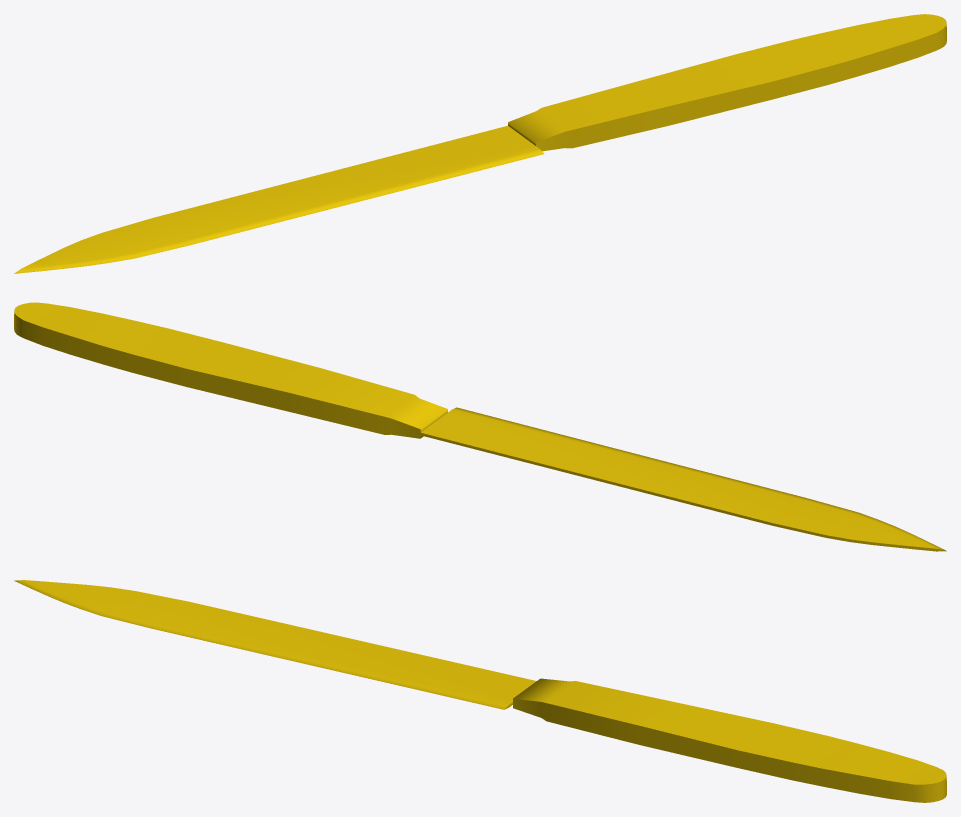
The model's file is SM_Knife_16.FBX.
3 views of the same model, one above another, from view 1: azimuth 30°, elevation 25°; view 2: azimuth 150°, elevation 25°; view 3: azimuth 330°, elevation 25° (orthographic).
Visible parts, largest first — view 1: Knife_16; view 2: Knife_16; view 3: Knife_16.
Boxes of the visible parts, <box> form: Knife_16: <box>14,14,946,273</box>; Knife_16: <box>14,302,946,551</box>; Knife_16: <box>14,580,946,802</box>.
Size of the model in its own units: 24.64 by 0.6124 by 1.88.
